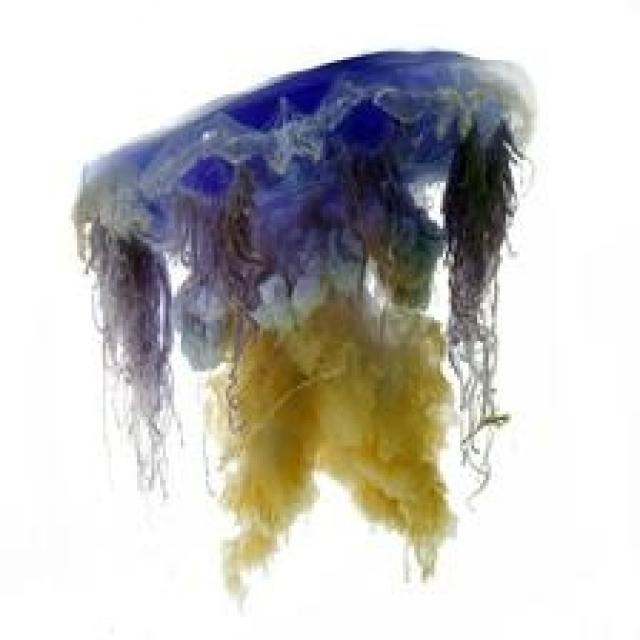Box-jellyfish: (69, 46, 537, 603)
